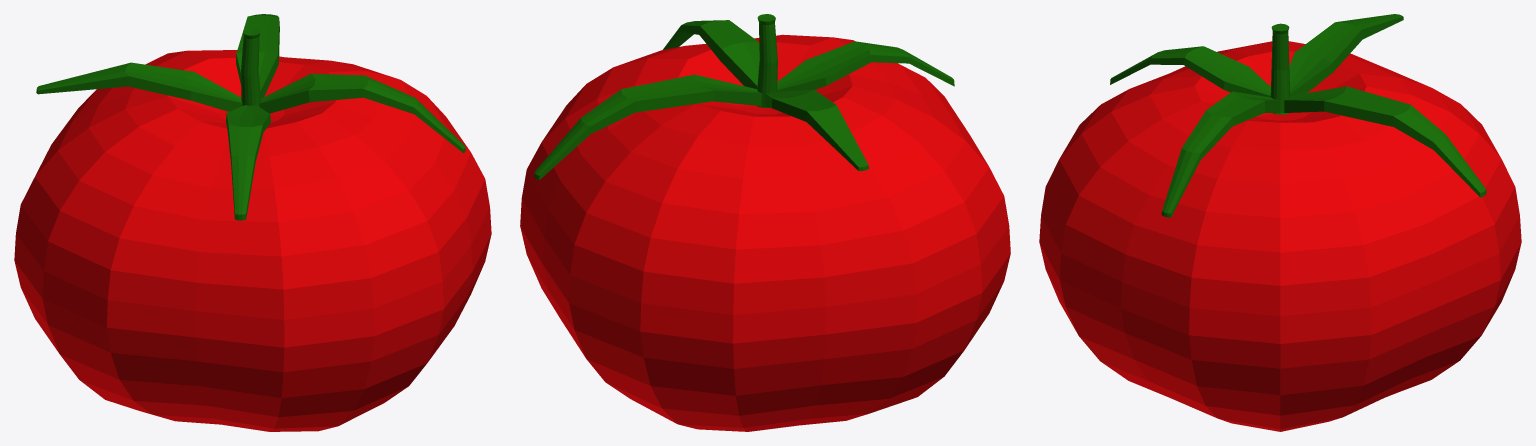
The picture shows the model from 3 angles, left to right: view 1: azimuth 30°, elevation 25°; view 2: azimuth 150°, elevation 25°; view 3: azimuth 270°, elevation 25°; orthographic projection. The views are drawn at different scales.
Visible parts, largest first — view 1: Tomato; view 2: Tomato; view 3: Tomato.
Boxes of the visible parts, x1,y1,x2,y2 form: Tomato: (14, 14, 491, 431); Tomato: (520, 14, 1010, 431); Tomato: (1039, 14, 1521, 431).
Size of the model in its own units: 2.36 by 1.94 by 2.36.
